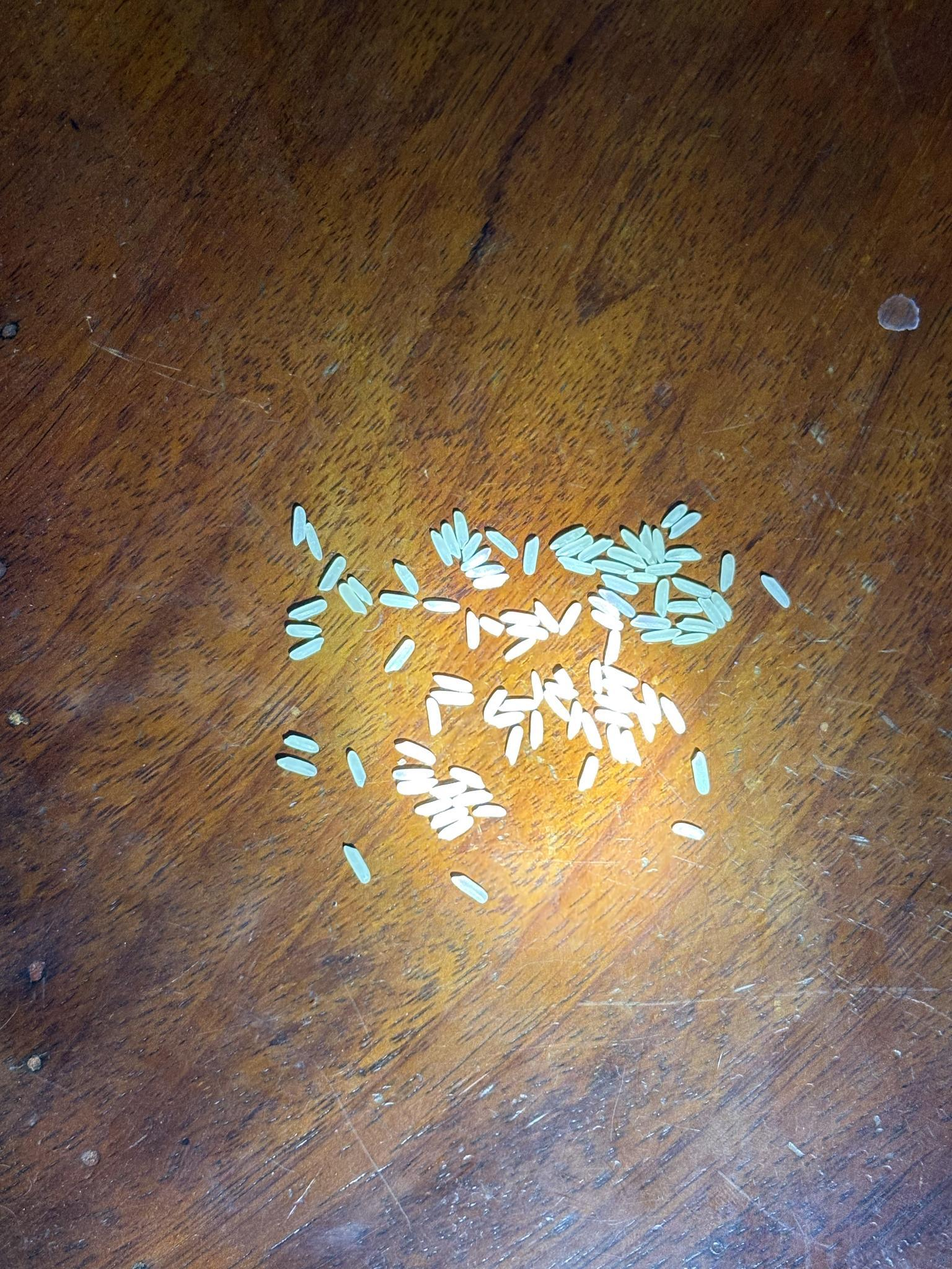Rice-th-y-nh: (621, 529, 653, 563), (344, 846, 370, 883), (452, 876, 488, 902), (396, 742, 436, 765), (320, 557, 346, 591), (602, 591, 636, 617), (661, 698, 686, 733), (386, 640, 414, 671), (762, 576, 790, 607), (486, 531, 518, 557), (483, 689, 508, 722), (606, 724, 627, 763), (339, 584, 366, 614), (544, 690, 570, 721), (439, 817, 474, 840), (603, 665, 638, 688), (669, 513, 701, 538), (608, 547, 645, 568), (551, 527, 586, 549), (581, 713, 602, 749), (430, 807, 466, 828), (699, 598, 725, 627), (394, 564, 419, 594), (290, 638, 324, 660), (535, 602, 559, 633), (673, 578, 712, 597), (277, 757, 316, 776), (431, 690, 474, 707), (642, 684, 661, 722), (347, 751, 367, 787), (579, 539, 613, 560), (450, 767, 484, 788), (505, 638, 536, 661), (559, 603, 581, 635), (602, 575, 639, 594), (290, 600, 327, 619), (505, 726, 523, 765), (348, 577, 373, 605), (579, 756, 599, 791), (557, 537, 592, 557), (622, 730, 642, 765), (431, 532, 452, 565), (461, 548, 491, 571), (595, 709, 633, 727), (636, 705, 655, 741), (441, 524, 461, 558), (589, 597, 621, 618), (434, 675, 473, 692), (509, 624, 548, 641), (693, 753, 709, 794), (661, 504, 687, 529), (559, 557, 595, 575), (567, 701, 584, 739), (454, 790, 492, 807), (591, 610, 623, 630), (397, 779, 437, 795), (284, 735, 319, 753), (305, 523, 322, 560), (523, 537, 540, 574), (594, 695, 631, 712), (631, 615, 671, 630), (604, 630, 621, 665), (416, 799, 451, 816), (545, 682, 578, 700), (426, 698, 442, 735), (677, 618, 716, 633), (593, 560, 632, 575), (501, 611, 540, 626), (393, 768, 434, 782), (554, 669, 575, 696), (491, 711, 524, 728), (712, 592, 732, 620), (474, 574, 509, 590), (641, 629, 681, 643), (432, 782, 467, 798), (529, 711, 544, 748), (654, 579, 669, 616), (461, 534, 482, 560), (672, 823, 704, 840), (466, 564, 504, 578), (292, 507, 306, 545), (500, 698, 538, 712), (465, 613, 480, 648), (381, 594, 418, 608), (721, 554, 735, 591), (454, 511, 469, 545), (646, 562, 681, 576), (652, 529, 666, 563), (424, 600, 460, 613), (589, 660, 603, 693), (480, 617, 504, 636), (673, 633, 710, 645), (287, 625, 321, 638), (665, 549, 701, 561), (531, 671, 544, 704), (473, 805, 507, 817), (668, 601, 701, 613), (640, 526, 654, 554), (628, 572, 657, 583)
